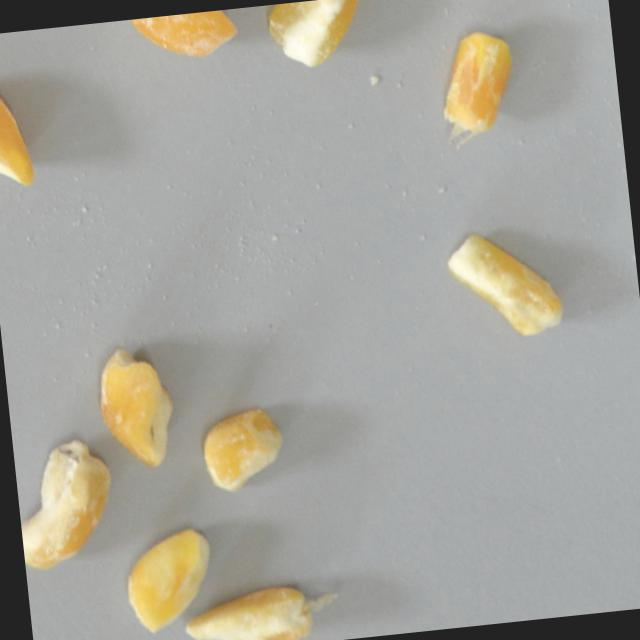estandar: (122, 518, 219, 636), (0, 74, 37, 194)
pelicula: (422, 27, 527, 146), (470, 216, 544, 355), (217, 541, 306, 640), (130, 7, 242, 75), (202, 402, 283, 493), (273, 0, 373, 68)
punto_negro: (11, 434, 122, 573), (92, 339, 184, 476)
